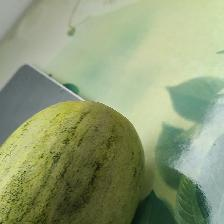gua: (12, 123, 132, 220)
